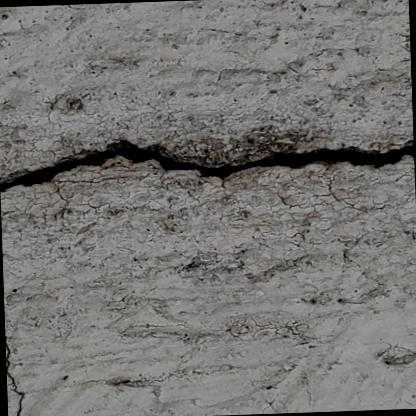crack: (0, 140, 414, 191)
